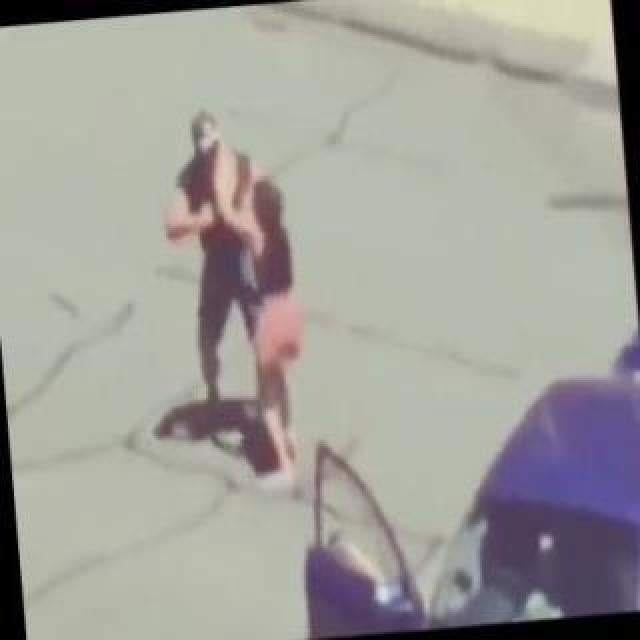fight: (158, 81, 352, 489)
